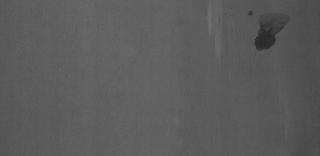oil spot: (248, 8, 290, 53)
